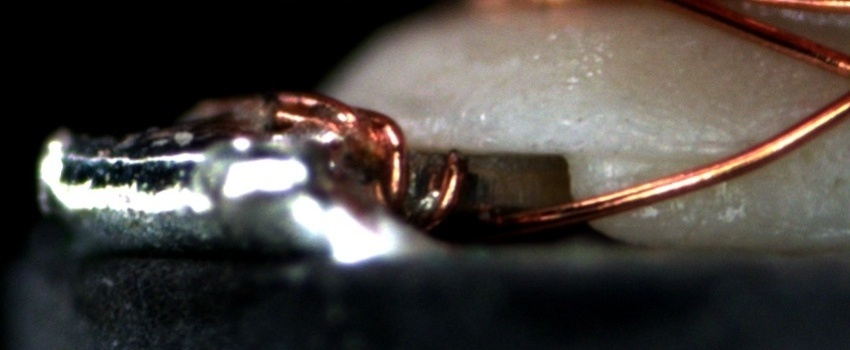CL: (830, 54, 850, 112)
DL: (590, 123, 754, 186)
TE: (265, 85, 475, 238)
